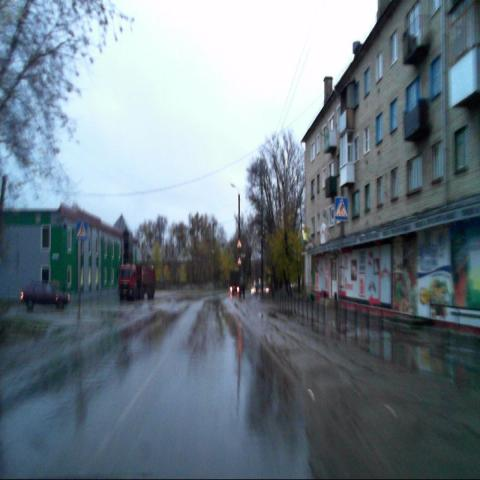5_19_1: (334, 196, 348, 221), (77, 221, 88, 240)
